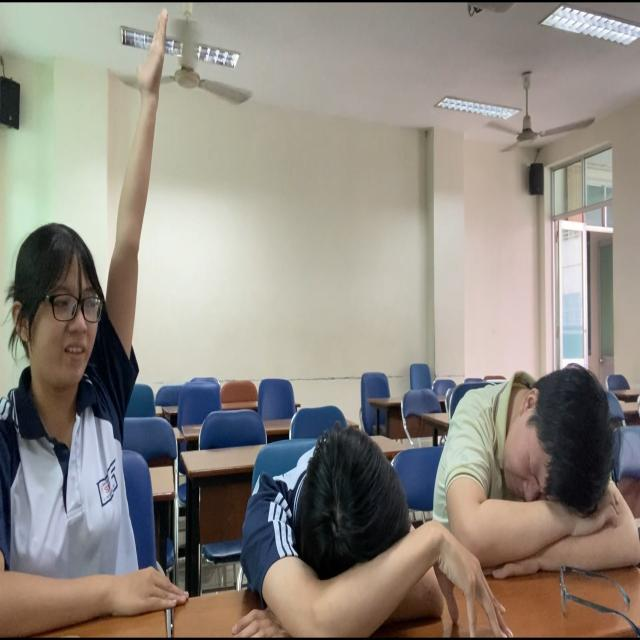raise_hand: (1, 9, 185, 640)
sleep: (241, 426, 465, 640), (441, 368, 640, 574)
